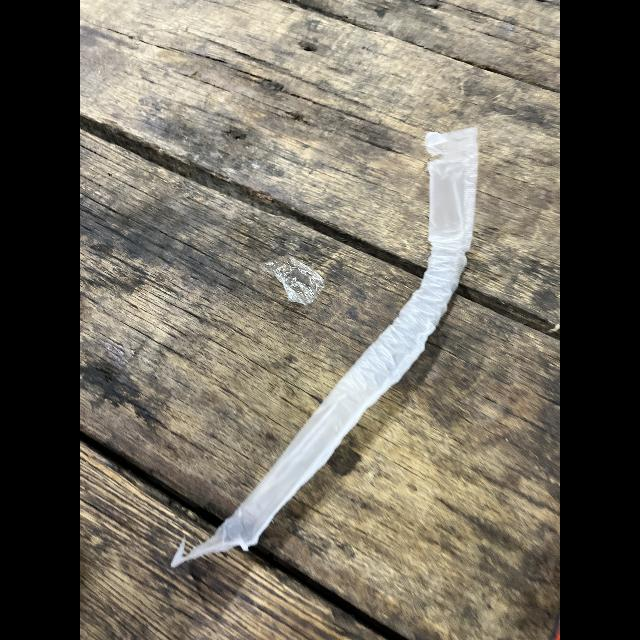scrap_plastic: (166, 124, 478, 572)
